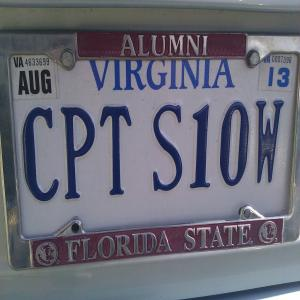Vehicle-registration-plate: (9, 76, 247, 246)
